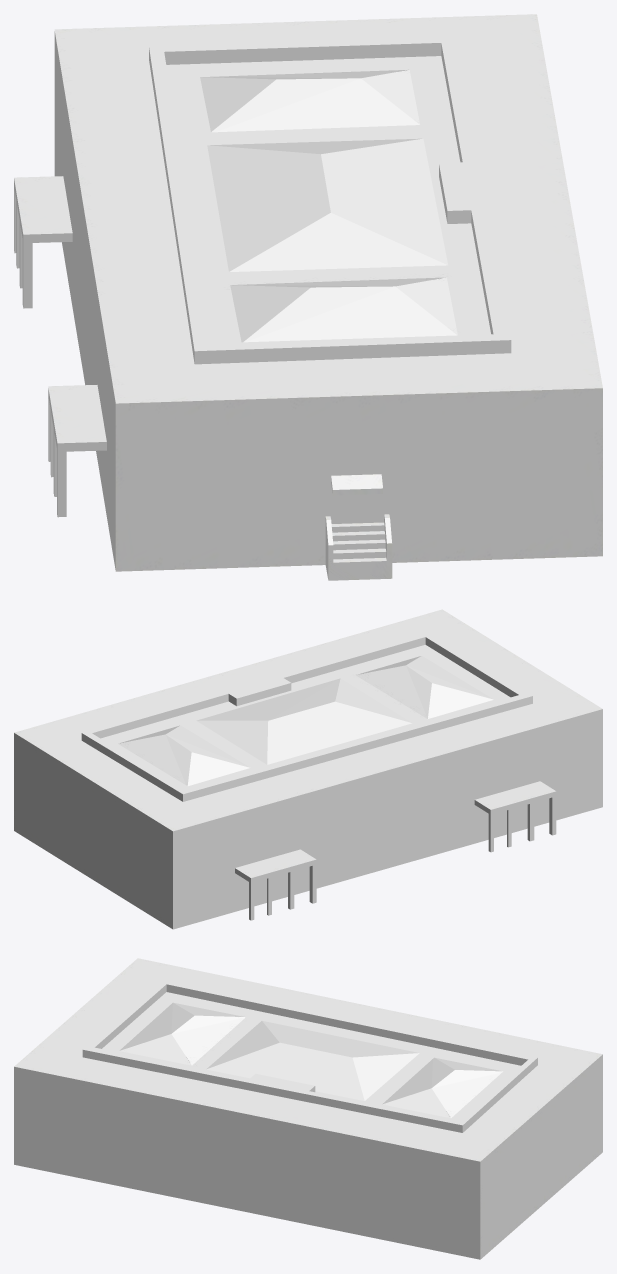
File: Führerbau.gltf
3 renders of one model, top to bottom at view 1: azimuth 30°, elevation 25°; view 2: azimuth 150°, elevation 25°; view 3: azimuth 270°, elevation 25°, orthographic. The views are drawn at different scales.
Visible parts, largest first — view 1: Sketchup; view 2: Sketchup; view 3: Sketchup.
Part boxes in pixels (left/top/right/bottom): Sketchup: left=14, top=14, right=602, bottom=580; Sketchup: left=14, top=609, right=602, bottom=929; Sketchup: left=14, top=958, right=602, bottom=1259.
Size of the model in its own units: 82.47 by 20.81 by 101.
5 materials, 4 textured.
